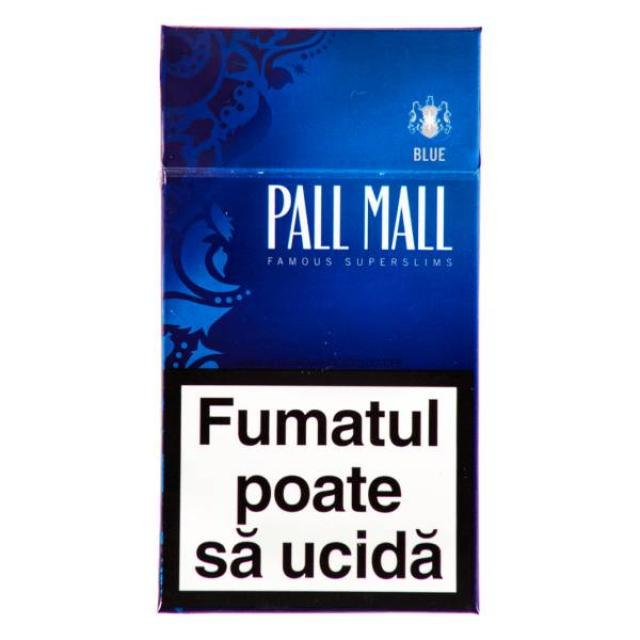pallmall: (152, 20, 486, 612)
